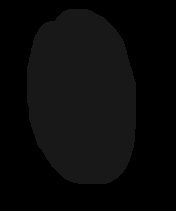fp: (15, 4, 139, 188)
